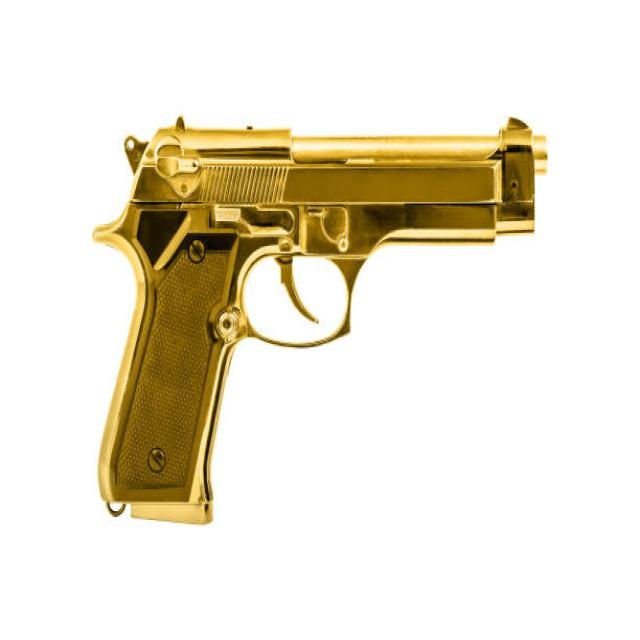pistol: (88, 110, 554, 537)
